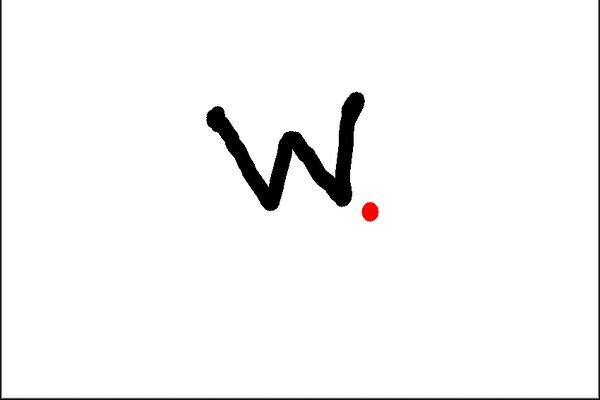w: (193, 88, 361, 231)
